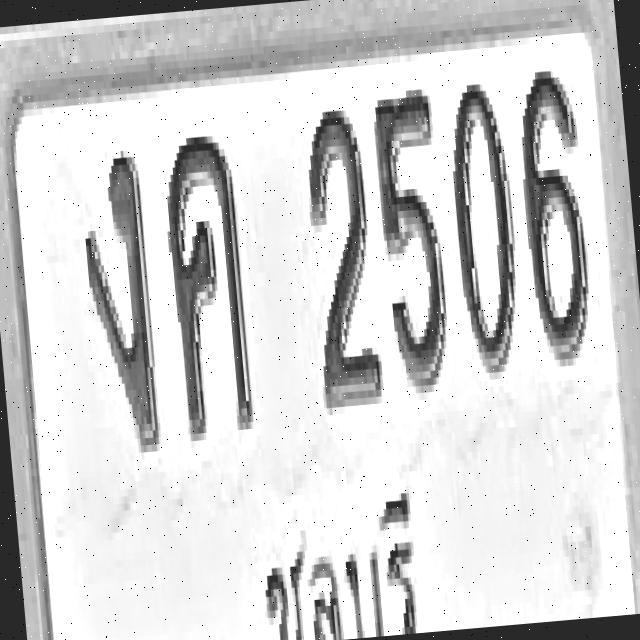0: (443, 75, 525, 374)
13KhorKhwai: (160, 127, 254, 434)
16NgorNgu: (75, 146, 162, 452)
2: (297, 101, 382, 408)
5: (369, 81, 454, 394)
6: (512, 62, 594, 361)
Chonburi: (247, 478, 429, 640)
